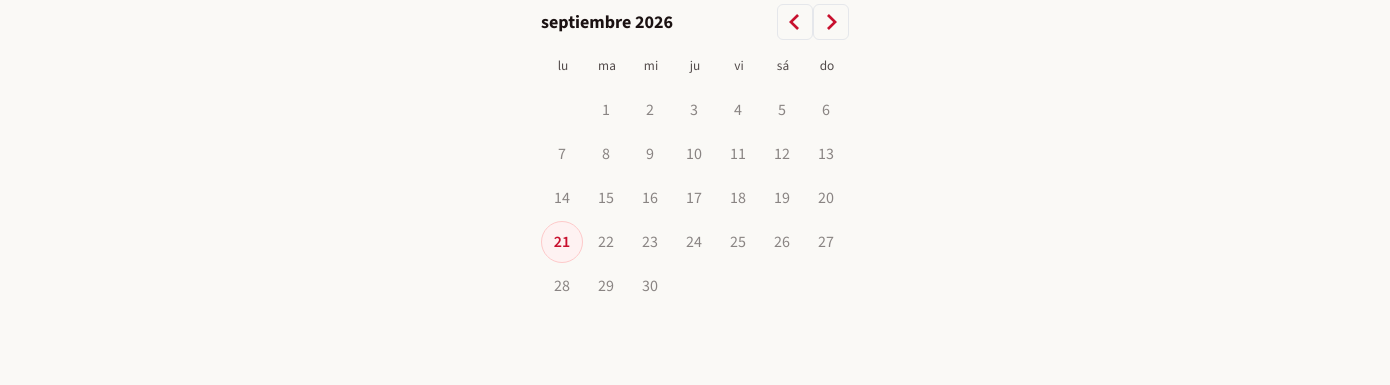
Test: VisitPicker › renders the Spanish month caption and time label with the real es-US output
This screenshot has width=1390, height=385.
expect the message with class "rdp-caption_label" reads "septiembre 2026": met, box [541,10,673,34]
Click the button named "21 de septiembre de 2026" at point(562, 242), box [541,221,583,263]
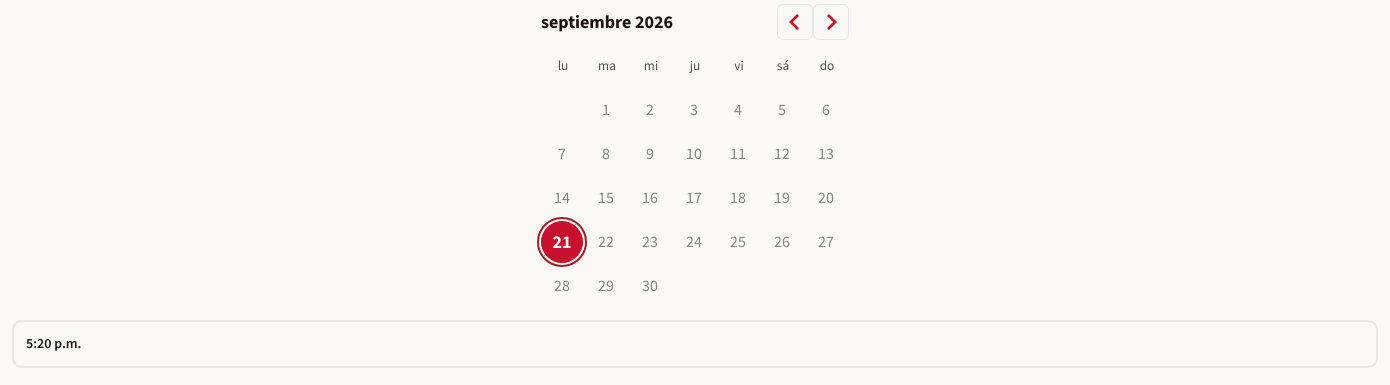
expect the button "5:20 p.m." is shown: met, box [12,320,1378,368]
